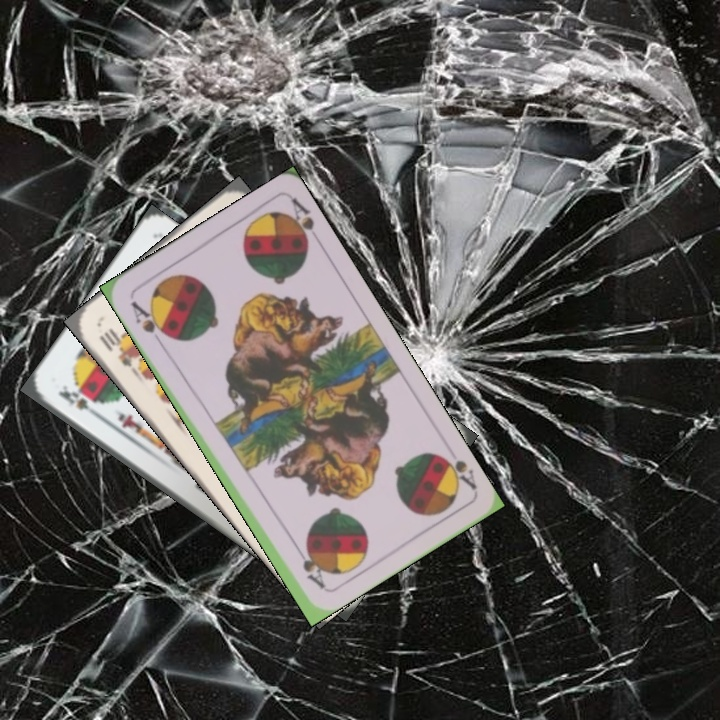E10: (94, 324, 138, 370)
SA: (431, 449, 480, 494), (127, 296, 171, 341)
SK: (54, 380, 104, 421)
